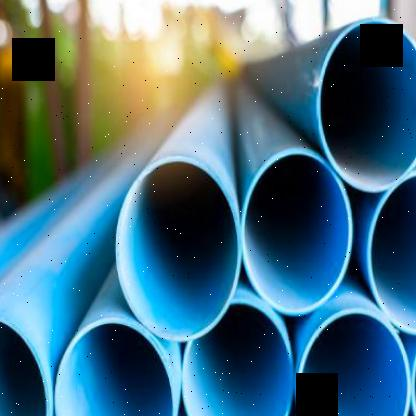pipe: (115, 155, 241, 341), (241, 148, 353, 316), (316, 18, 416, 193), (181, 298, 292, 416), (296, 309, 412, 416), (54, 317, 177, 416), (365, 169, 416, 336), (0, 313, 52, 416), (410, 330, 416, 415)
